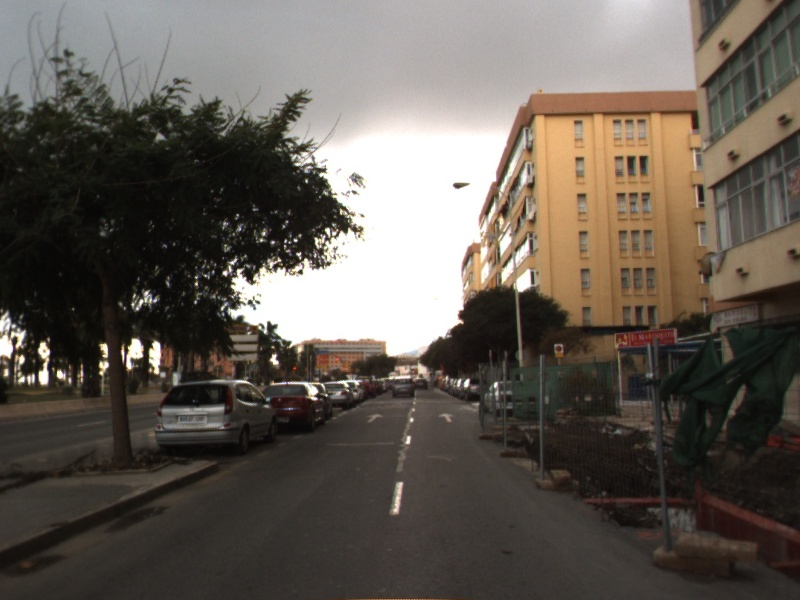STRAIGHT: (437, 411, 457, 423), (365, 412, 385, 424)
